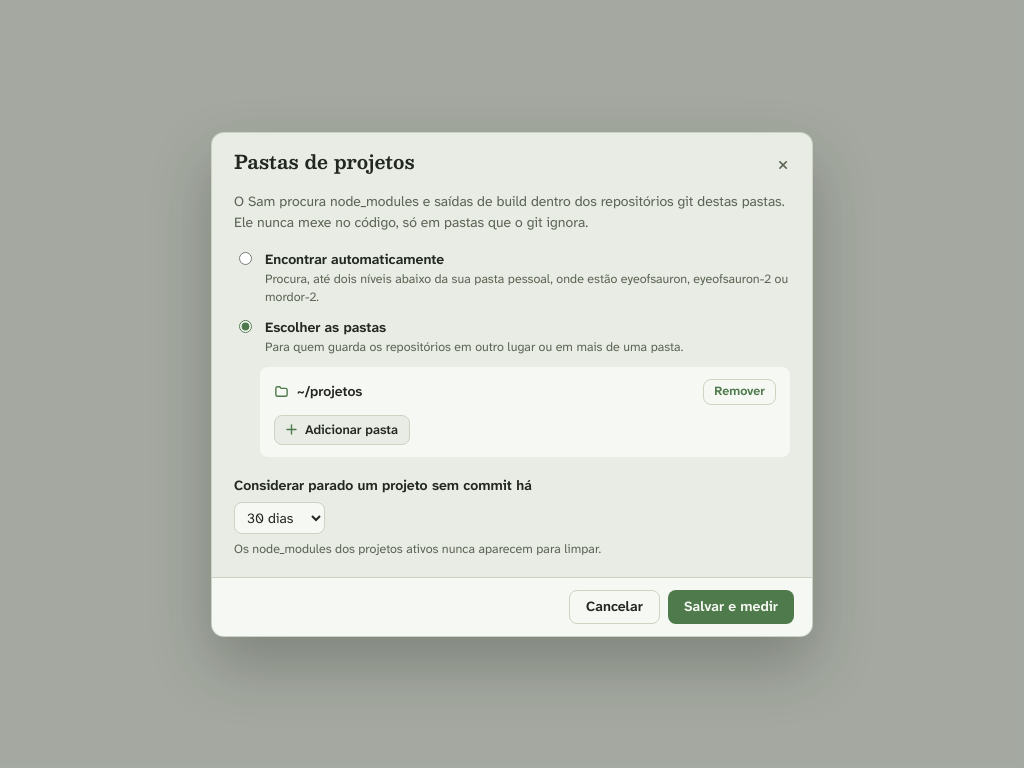
it: ProjectsDialog › will not save a manual list with no folders
The width and height of the screenshot is (1024, 768).
Check: the text "~/projetos" is shown, box [297,382,362,400]
Click the button "Remover" at (740, 392), box [703,379,776,405]
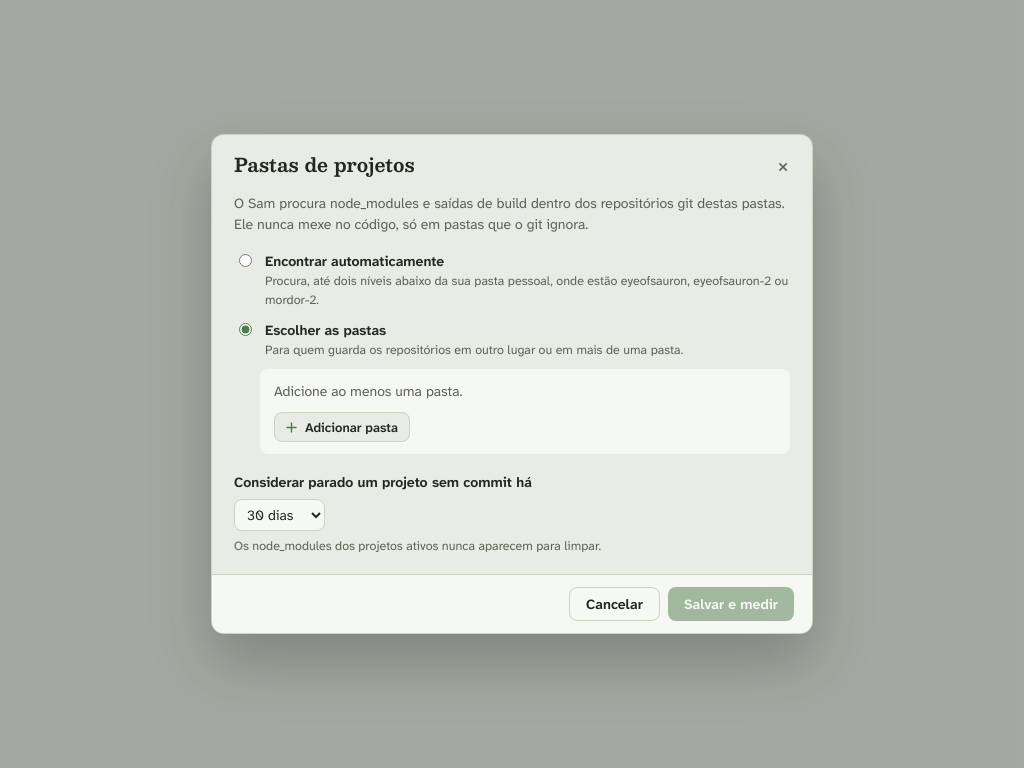
Check: the text "Adicione ao menos uma pasta." is shown, box [274,381,462,402]
Check: the button "Salvar e medir" is disabled, box [668,587,794,621]
